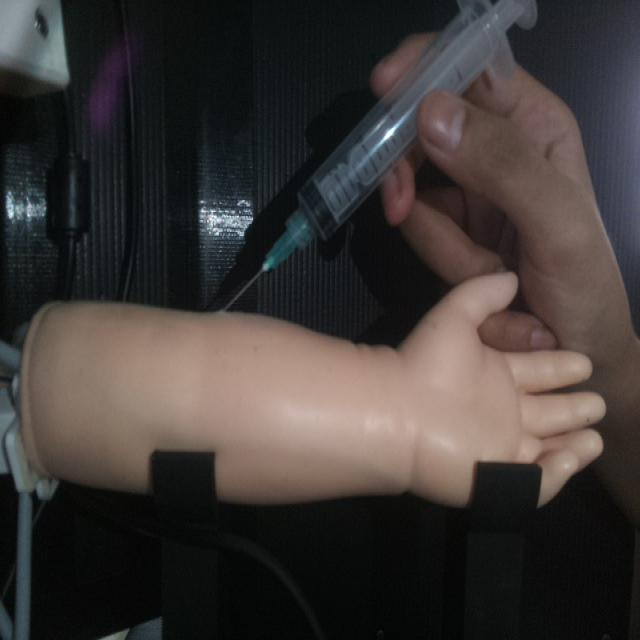Above 30 degrees: (219, 0, 541, 317)
